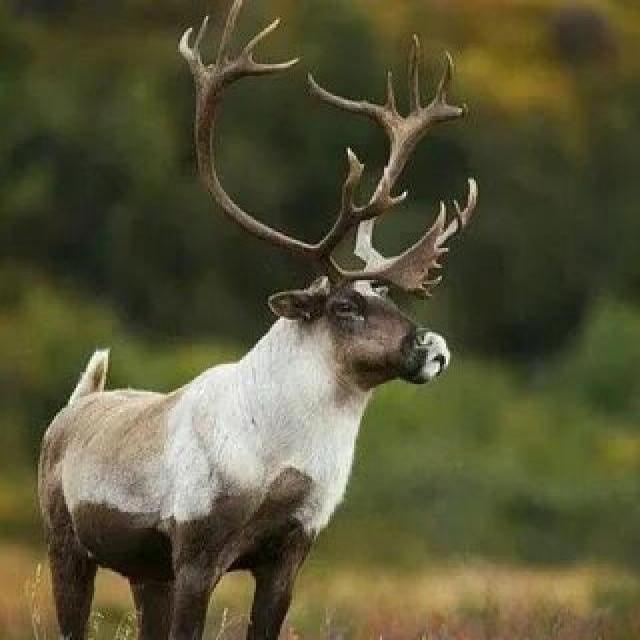deer: (42, 106, 534, 610)
